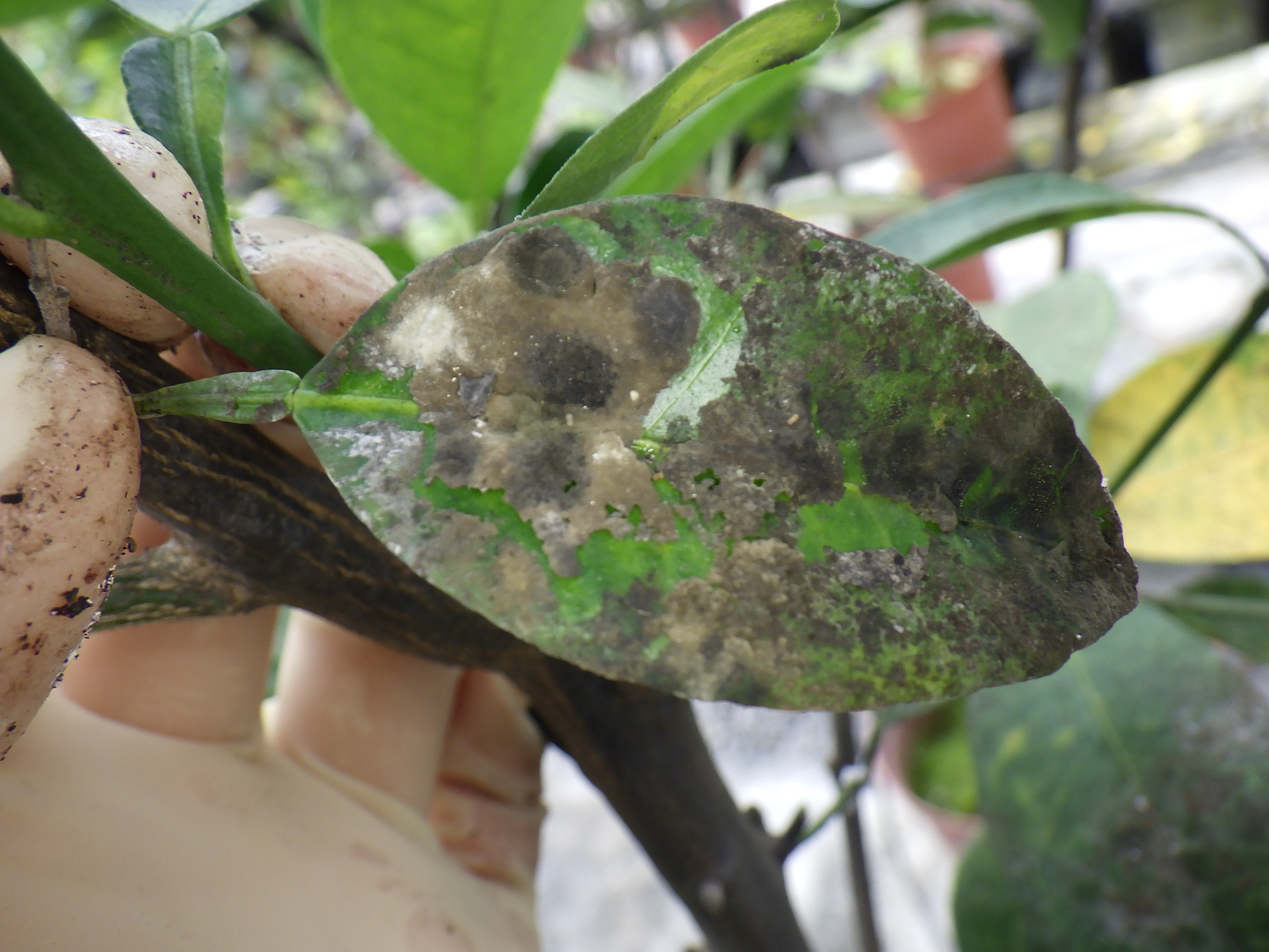Sooty_Mold: (288, 195, 1135, 708)
